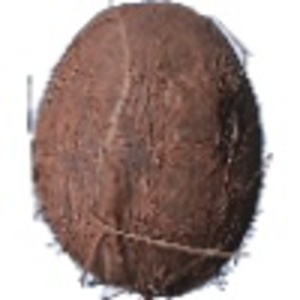coco: (28, 1, 271, 300)
